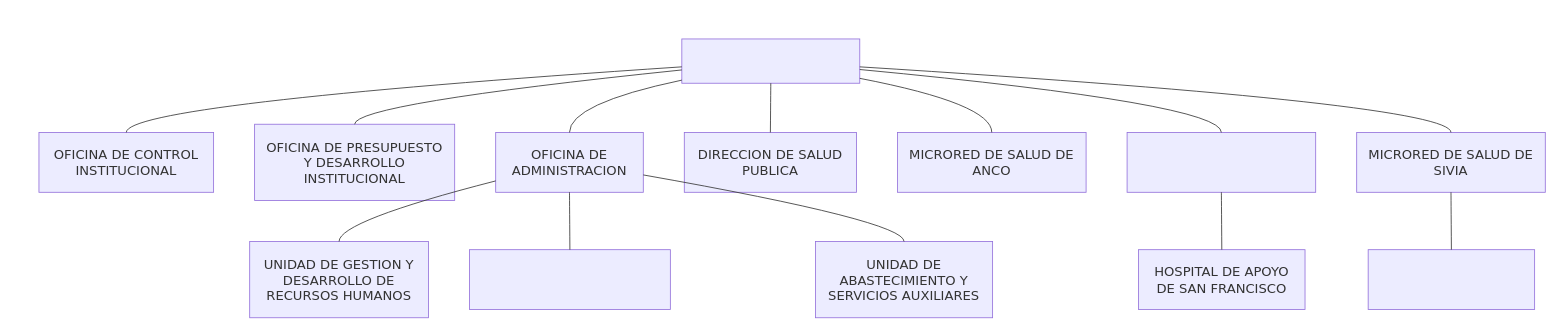
This 1560x332 diagram has some shape labels left out. Here are the shapes that lost their labels. From the top down, the centre of each, then its label:
the point at 770,60: DIRECCION EJECUTIVA
the point at 1221,162: MICRORED DE SALUD DE AYNA
the point at 569,279: UNIDAD DE CONTABILIDAD Y TESORERIA
the point at 1451,279: HOSPITAL DE APOYO DE SIVIA
